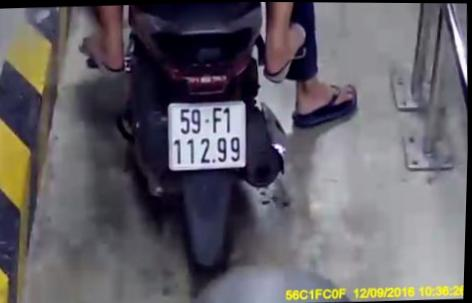LP: (165, 97, 250, 170)
